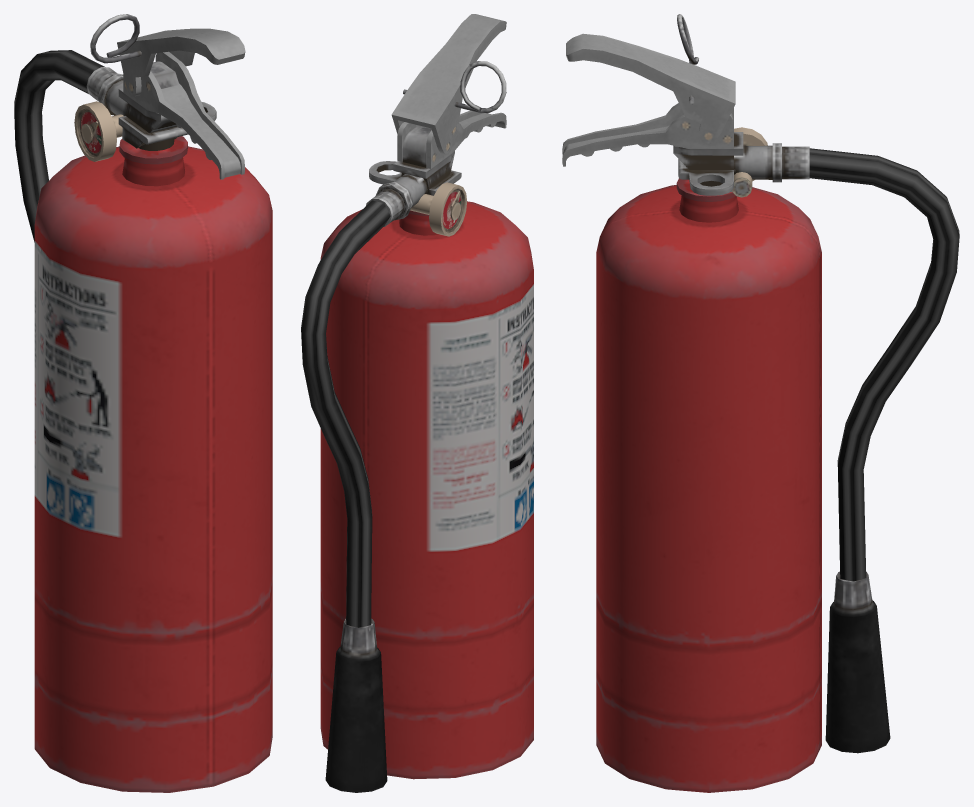
The model's file is HH_Fire_Extinguisher.fbx.
3 renders of one model, left to right at view 1: azimuth 30°, elevation 25°; view 2: azimuth 150°, elevation 25°; view 3: azimuth 270°, elevation 25°, orthographic. The views are drawn at different scales.
Parts seen in each view (by area): view 1: HH_Fire_Extinguisher_LOD0; view 2: HH_Fire_Extinguisher_LOD0; view 3: HH_Fire_Extinguisher_LOD0.
Part boxes in pixels (x1=…): HH_Fire_Extinguisher_LOD0: x1=14, y1=14, x2=272, y2=792; HH_Fire_Extinguisher_LOD0: x1=301, y1=14, x2=533, y2=792; HH_Fire_Extinguisher_LOD0: x1=562, y1=14, x2=959, y2=792.
Size of what is drawn, in the model's own units: 18.15 by 62.65 by 31.95.
